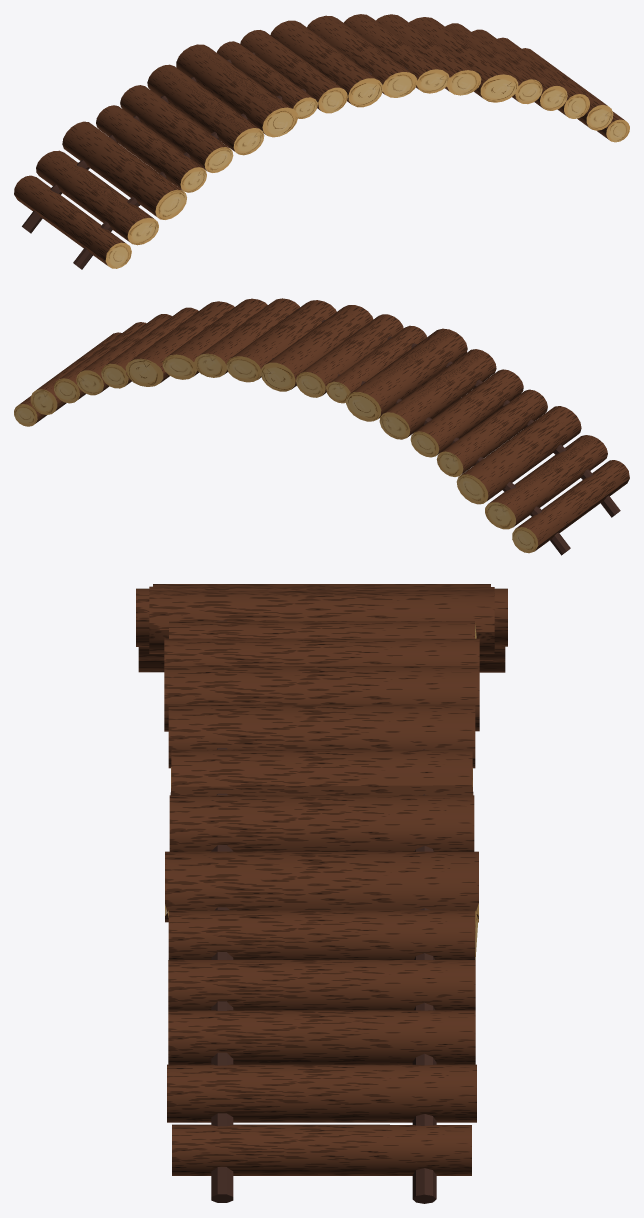
The model's file is Bridge1.glb.
The picture shows the model from 3 angles, top to bottom: view 1: azimuth 30°, elevation 25°; view 2: azimuth 150°, elevation 25°; view 3: azimuth 270°, elevation 25°; orthographic projection. The views are drawn at different scales.
Visible parts, largest first — view 1: Woods, foot2, foot1; view 2: Woods, foot2, foot1; view 3: Woods, foot2, foot1.
Boxes of the visible parts, box(x1,y1,x2,y2) form: Woods: box(14, 14, 629, 268); foot2: box(73, 67, 407, 269); foot1: box(22, 31, 355, 233); Woods: box(14, 298, 629, 553); foot2: box(286, 315, 620, 517); foot1: box(272, 358, 570, 555); Woods: box(136, 584, 507, 1175); foot2: box(211, 620, 233, 1202); foot1: box(412, 749, 436, 1203).
Size of the model in its own units: 15.56 by 3.65 by 4.54.
Materials: 3 (1 with a texture image).
